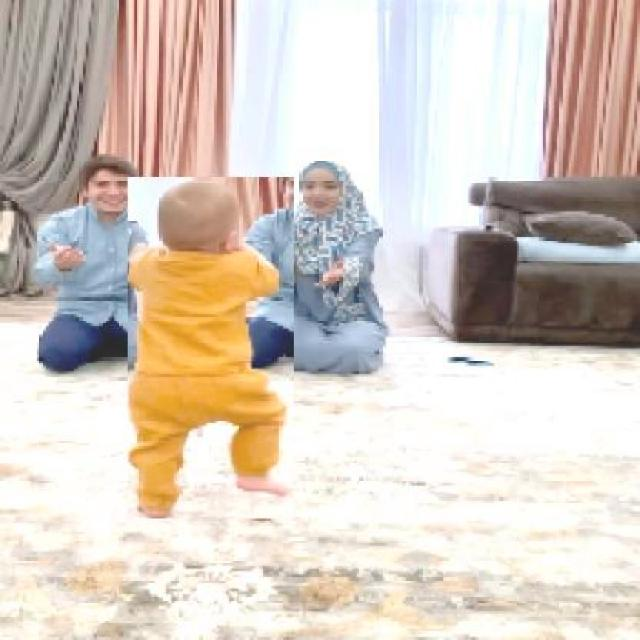child: (126, 177, 294, 520)
